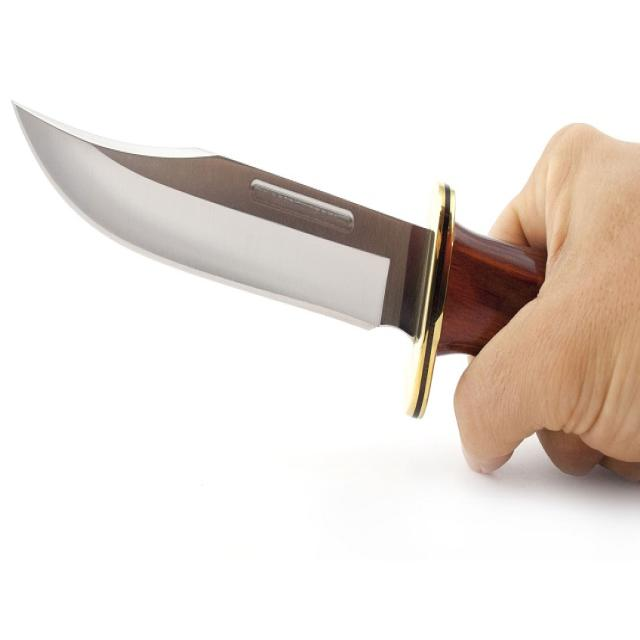knife: (9, 88, 481, 433)
